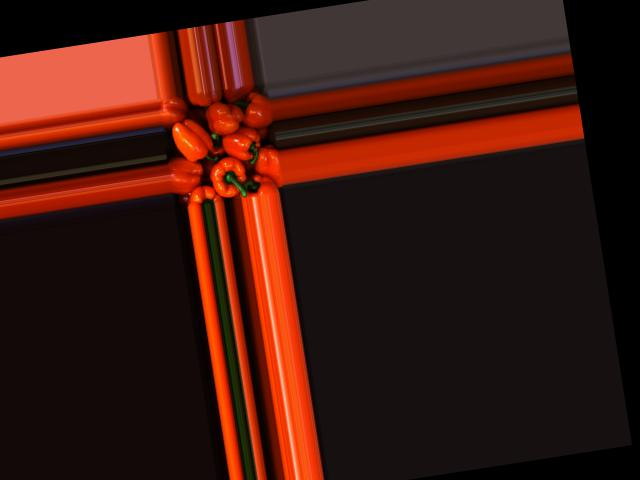bell_pepper: (214, 82, 260, 113)
